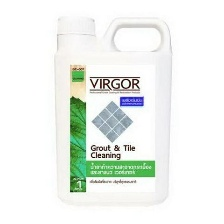cleaning_solution: (51, 13, 175, 211)
